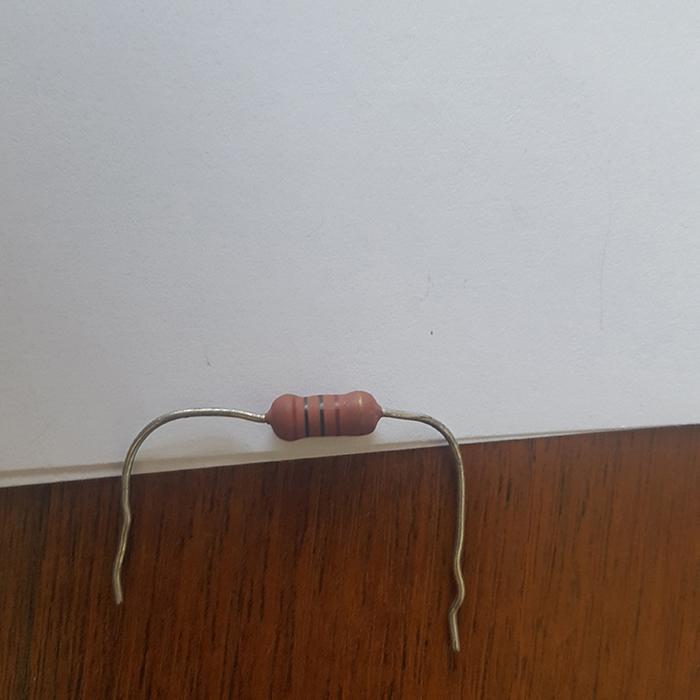resistor: (266, 391, 381, 440)
